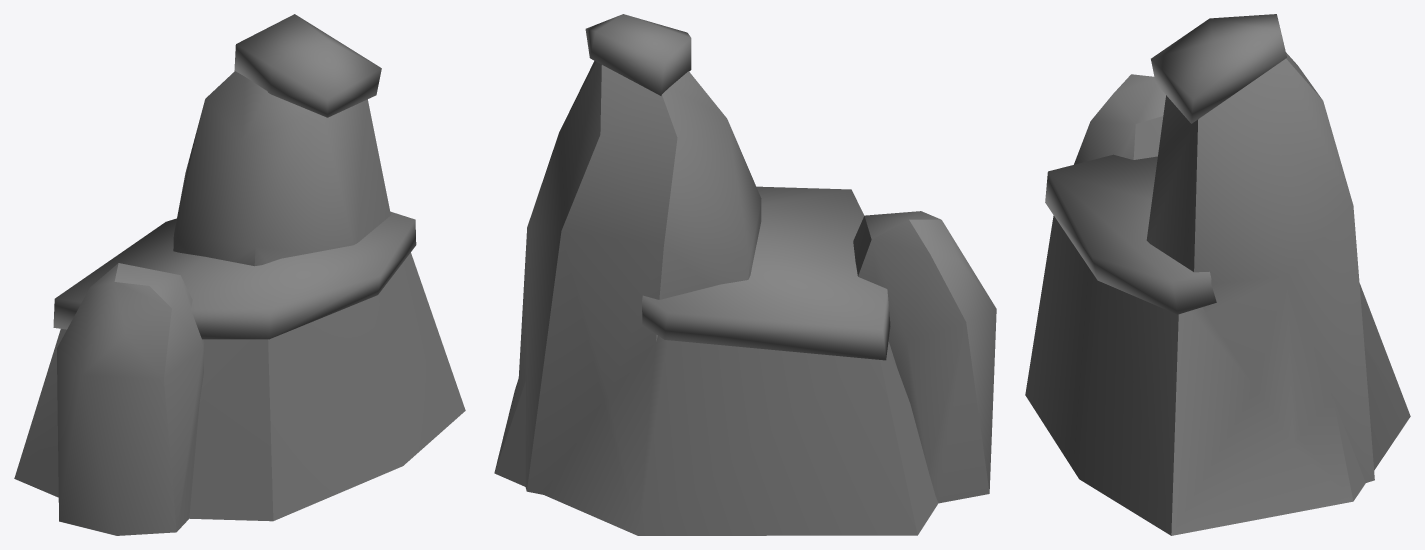
Rendered from rocks_snow_B_blue.fbx.
The picture shows the model from 3 angles, left to right: view 1: azimuth 30°, elevation 25°; view 2: azimuth 150°, elevation 25°; view 3: azimuth 270°, elevation 25°; orthographic projection. The views are drawn at different scales.
Visible parts, largest first — view 1: rocks_snow_B_blue; view 2: rocks_snow_B_blue; view 3: rocks_snow_B_blue.
Boxes of the visible parts, x1,y1,x2,y2 form: rocks_snow_B_blue: (14, 14, 465, 535); rocks_snow_B_blue: (494, 14, 996, 535); rocks_snow_B_blue: (1025, 14, 1410, 535).
Bounding box in the file's own units: 3.37 × 3.01 × 2.4.
